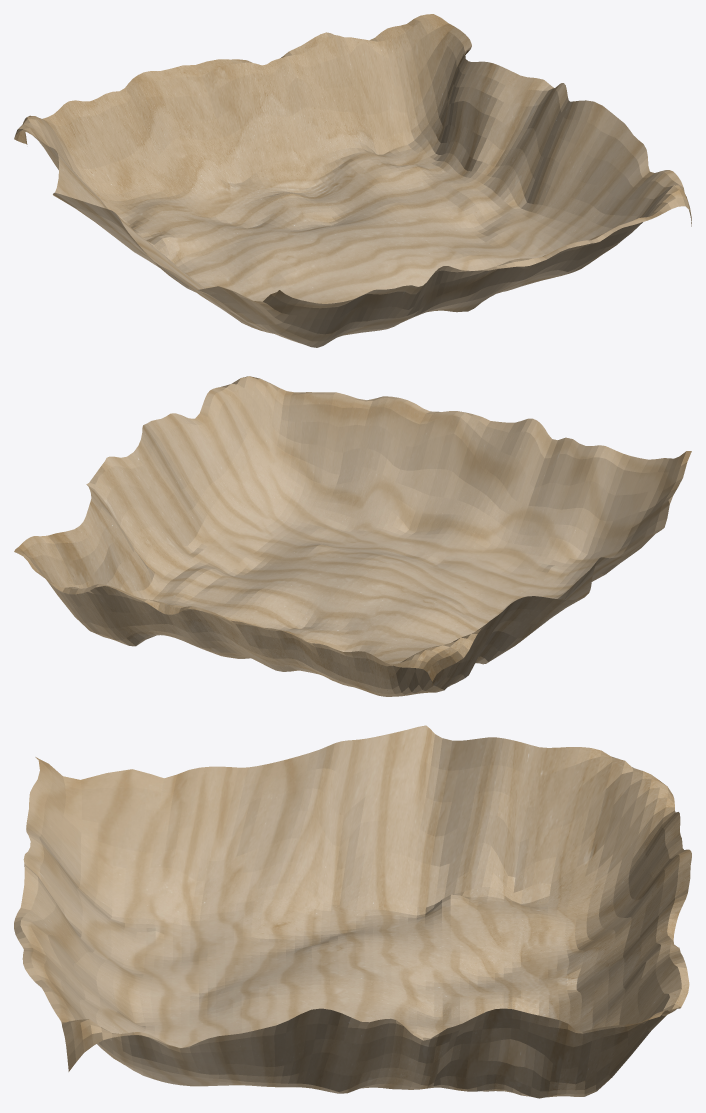
File: terrainSmall.gltf
3 renders of one model, top to bottom at view 1: azimuth 30°, elevation 25°; view 2: azimuth 150°, elevation 25°; view 3: azimuth 270°, elevation 25°, orthographic. The views are drawn at different scales.
Parts seen in each view (by area): view 1: Plane; view 2: Plane; view 3: Plane.
Part boxes in pixels (x1,y1,x2,y2): Plane: (14,14,691,347); Plane: (14,376,691,696); Plane: (14,725,691,1098).
Size of the model in its own units: 229 by 49.12 by 220.
1 material, 1 textured.
